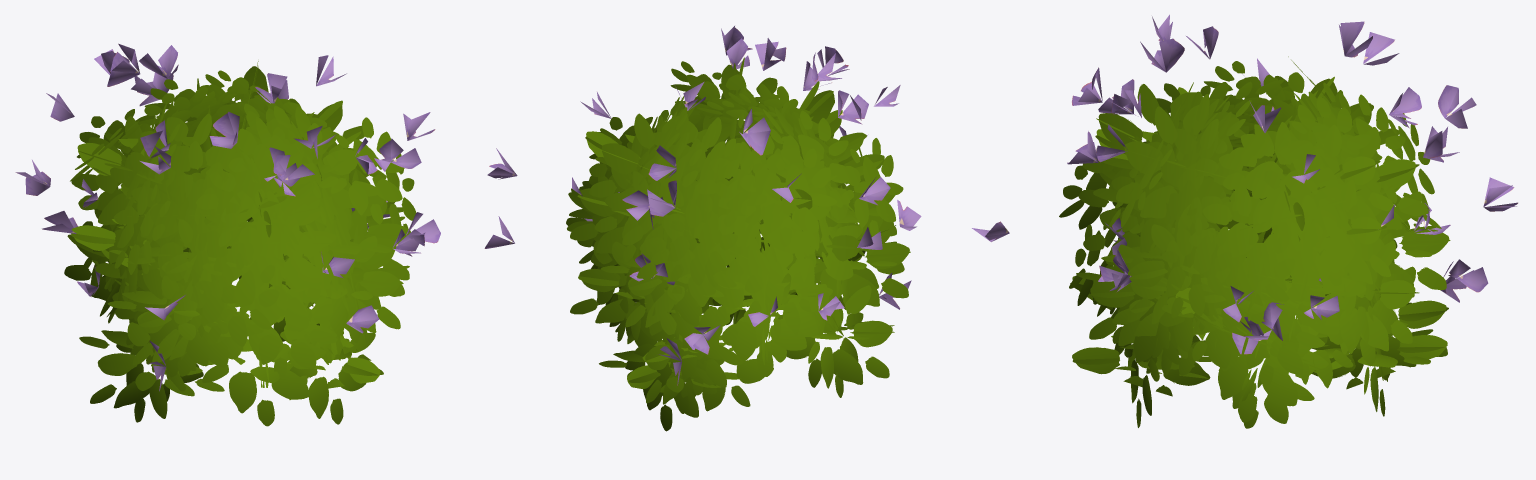
File: Bush_Common_Flowers.gltf
3 renders of one model, left to right at view 1: azimuth 30°, elevation 25°; view 2: azimuth 150°, elevation 25°; view 3: azimuth 270°, elevation 25°, orthographic. The views are drawn at different scales.
Visible parts, largest first — view 1: Bush_Common_Flowers_2, Bush_Common_Flowers_1; view 2: Bush_Common_Flowers_2, Bush_Common_Flowers_1; view 3: Bush_Common_Flowers_2, Bush_Common_Flowers_1.
Boxes of the visible parts, box(x1,y1,x2,y2) form: Bush_Common_Flowers_2: box(64, 61, 416, 426); Bush_Common_Flowers_1: box(15, 43, 440, 391); Bush_Common_Flowers_2: box(566, 57, 910, 431); Bush_Common_Flowers_1: box(484, 26, 921, 385); Bush_Common_Flowers_2: box(1059, 56, 1450, 428); Bush_Common_Flowers_1: box(972, 14, 1517, 354).
Size of the model in its own units: 3.8 by 3.33 by 4.18.
2 materials, 2 textured.
